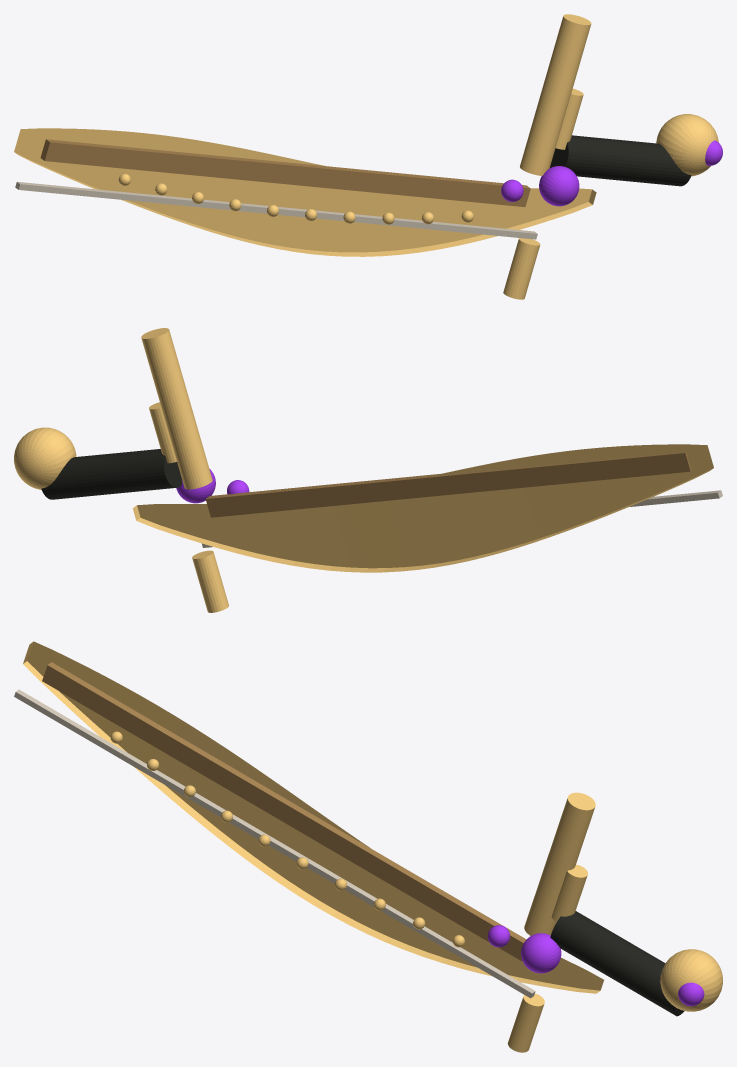
File: lwa_fantasy_sword_no_aura.glb
The picture shows the model from 3 angles, top to bottom: view 1: azimuth 30°, elevation 25°; view 2: azimuth 150°, elevation 25°; view 3: azimuth 330°, elevation 25°; orthographic projection.
Visible parts, largest first — view 1: ornate_curved_gold_blade, dark_engraved_blade_inlay, ornate_crossguard_gold, black_wrapped_handle, polished_lower_edge, gold_pommel, jagged_guard_spike_1, center_purple_gem, jagged_guard_spike_2; view 2: ornate_curved_gold_blade, dark_engraved_blade_inlay, black_wrapped_handle, ornate_crossguard_gold, gold_pommel, jagged_guard_spike_1, jagged_guard_spike_2, polished_lower_edge, center_purple_gem; view 3: ornate_curved_gold_blade, dark_engraved_blade_inlay, polished_lower_edge, black_wrapped_handle, ornate_crossguard_gold, gold_pommel, jagged_guard_spike_1, center_purple_gem, jagged_guard_spike_2.
Part boxes in pixels (x1,y1,x2,y2): ornate_curved_gold_blade: (14, 128, 596, 256); dark_engraved_blade_inlay: (40, 139, 530, 206); ornate_crossguard_gold: (520, 14, 591, 175); black_wrapped_handle: (550, 135, 691, 186); polished_lower_edge: (15, 181, 537, 239); gold_pommel: (656, 114, 718, 176); jagged_guard_spike_1: (503, 238, 540, 299); center_purple_gem: (539, 166, 579, 206); jagged_guard_spike_2: (555, 88, 583, 149); ornate_curved_gold_blade: (132, 444, 713, 572); dark_engraved_blade_inlay: (205, 452, 691, 517); black_wrapped_handle: (41, 449, 182, 499); ornate_crossguard_gold: (141, 328, 212, 489); gold_pommel: (14, 427, 76, 489); jagged_guard_spike_1: (192, 550, 228, 612); jagged_guard_spike_2: (149, 402, 176, 463); polished_lower_edge: (201, 490, 722, 547); center_purple_gem: (176, 468, 215, 503); ornate_curved_gold_blade: (23, 641, 603, 993); dark_engraved_blade_inlay: (42, 662, 526, 961); polished_lower_edge: (14, 689, 535, 998); black_wrapped_handle: (550, 911, 684, 1016); ornate_crossguard_gold: (524, 792, 595, 935); gold_pommel: (660, 949, 722, 1011); jagged_guard_spike_1: (507, 993, 544, 1052); center_purple_gem: (521, 933, 561, 973); jagged_guard_spike_2: (551, 864, 587, 921).
Size of the model in its own units: 7.21 by 2.81 by 0.66.
